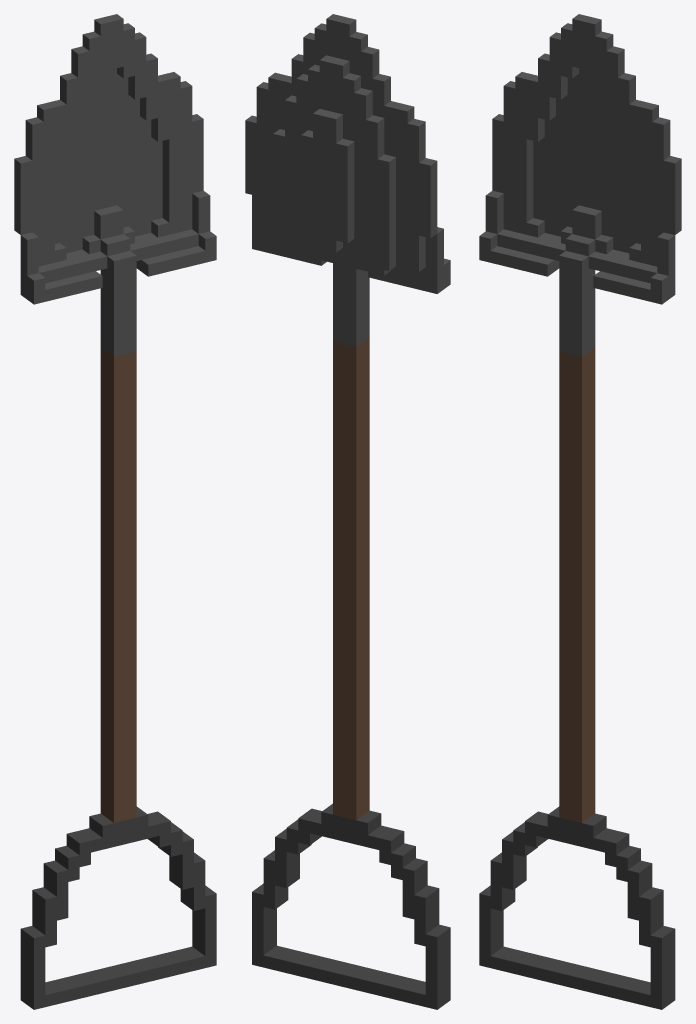
Rendered from Shovel.obj.
3 renders of one model, left to right at view 1: azimuth 30°, elevation 25°; view 2: azimuth 150°, elevation 25°; view 3: azimuth 330°, elevation 25°, orthographic.
Size of the model in its own units: 1.6 by 8 by 0.5.
1 material, 1 textured.
